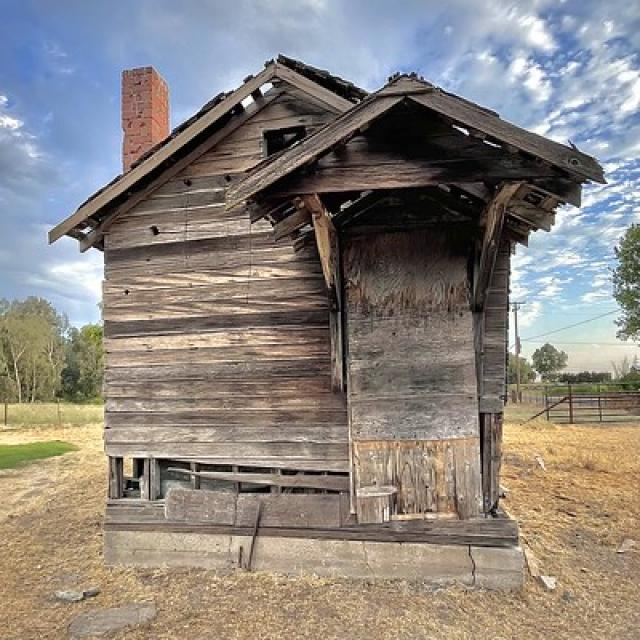Normal_building: (42, 47, 612, 561)
